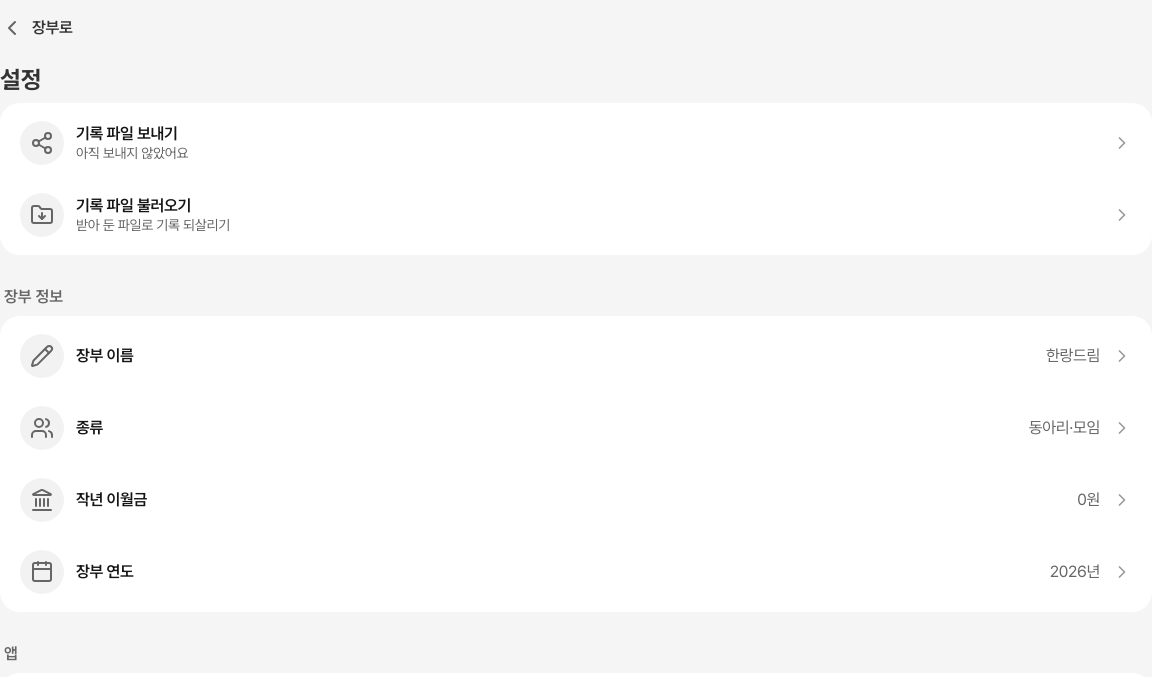
Test case: SPEC-001·002 설정 화면 › 편집 화면 (장부 이름·작년 이월금) › 이월금이 0원이면 편집 화면 금액 칸에 0 이 보인다
Step 1. Click the button "작년 이월금 0원" → (42, 500), box [0,464,1151,536]
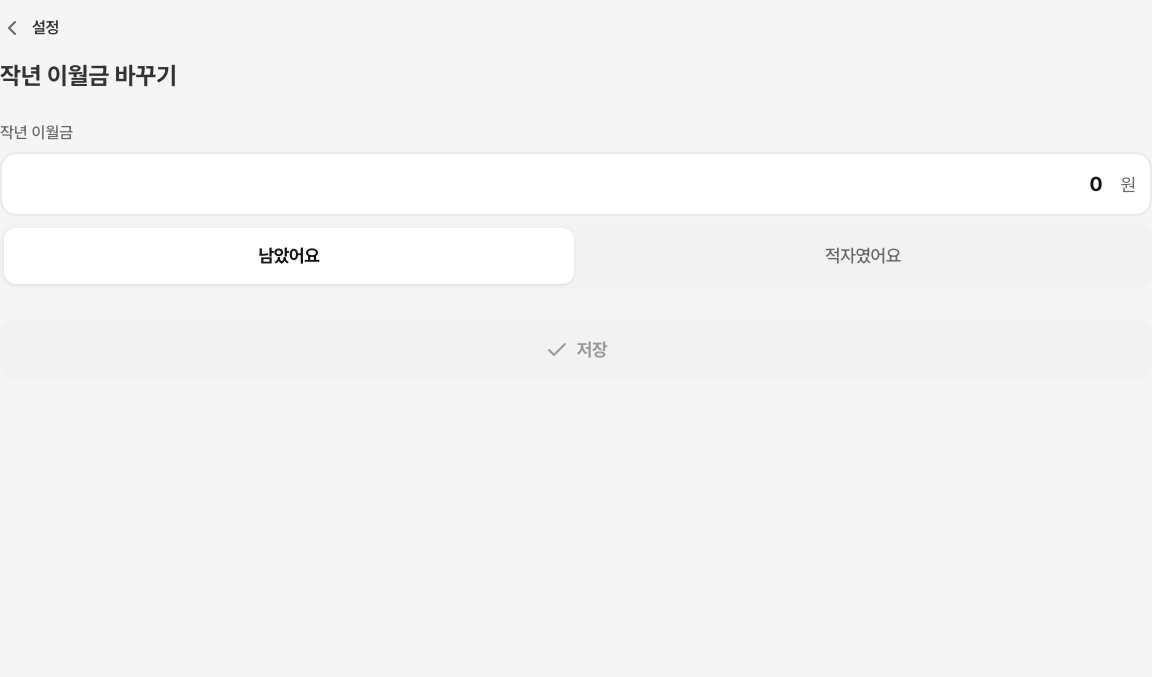
Expected: the field labelled "작년 이월금" holds "0", [0,152,1151,216]
Expected: the button "저장" is disabled, [0,320,1151,380]
